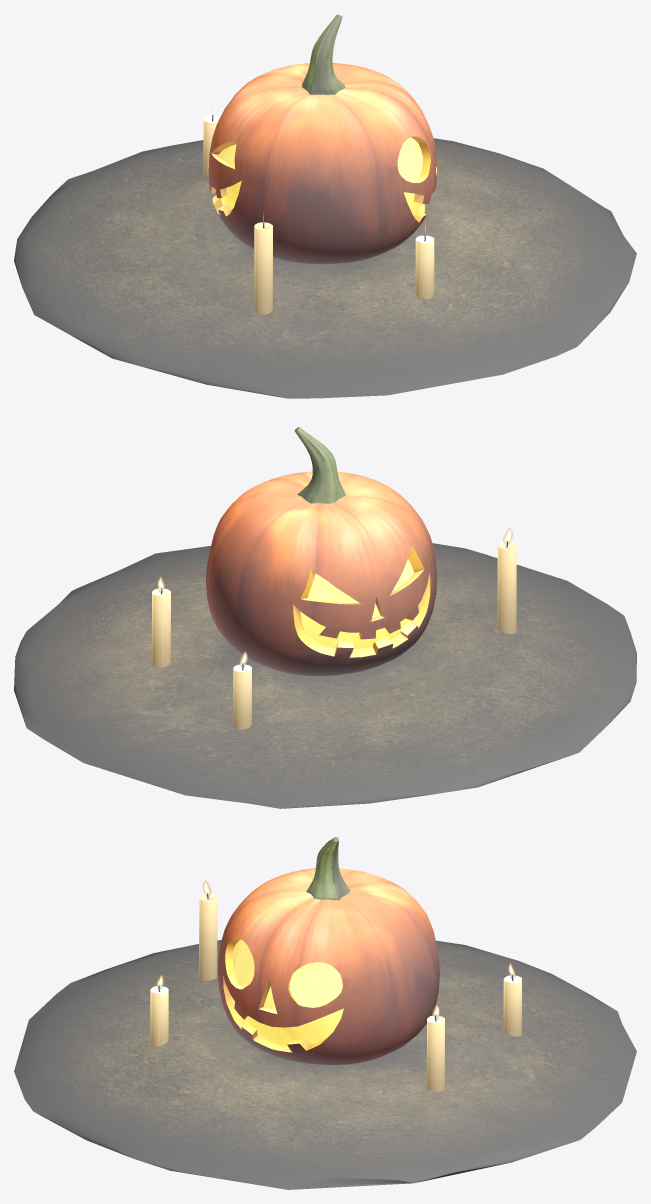
Rendered from halloween.glb.
The picture shows the model from 3 angles, top to bottom: view 1: azimuth 30°, elevation 25°; view 2: azimuth 150°, elevation 25°; view 3: azimuth 270°, elevation 25°; orthographic projection. The views are drawn at different scales.
Bounding box in the file's own units: 1.99 × 0.844 × 2.03.
Materials: 2 (1 with a texture image).
